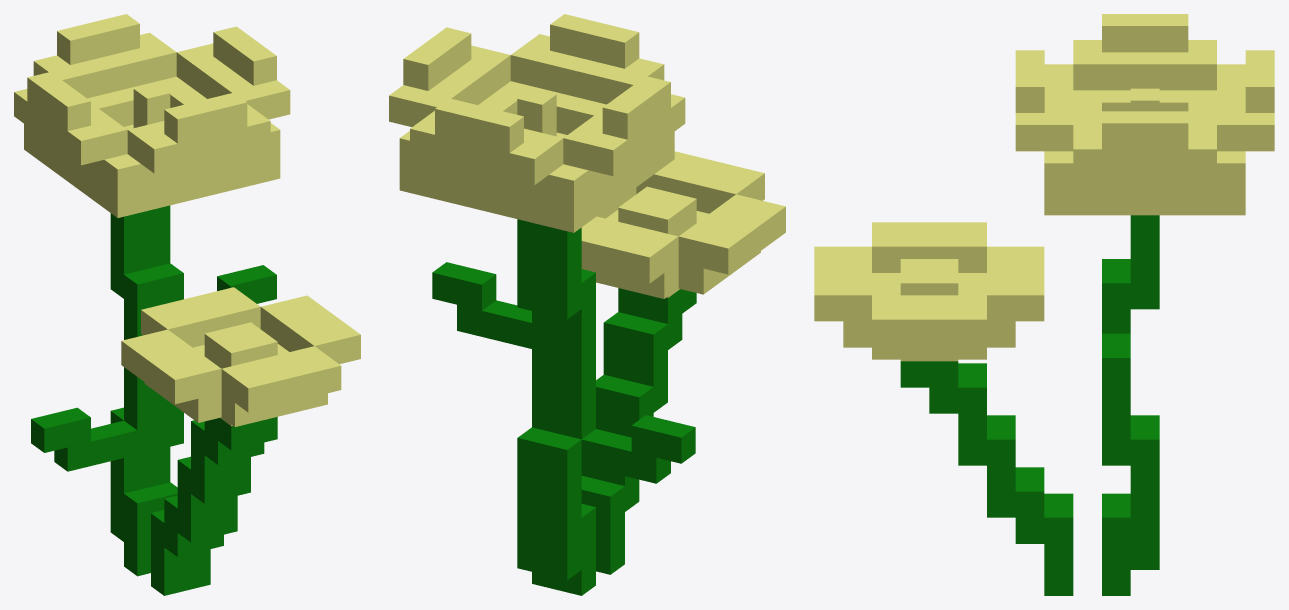
Rendered from faint yellow wide flower.fbx.
3 views of the same model, side by side, from view 1: azimuth 30°, elevation 25°; view 2: azimuth 150°, elevation 25°; view 3: azimuth 270°, elevation 25° (orthographic). The views are drawn at different scales.
Parts seen in each view (by area): view 1: Untitled; view 2: Untitled; view 3: Untitled.
Boxes of the visible parts, x1=… form: Untitled: x1=14, y1=14, x2=360, y2=595; Untitled: x1=389, y1=14, x2=785, y2=595; Untitled: x1=814, y1=14, x2=1274, y2=595.
Bounding box in the file's own units: 100 × 200 × 160.
